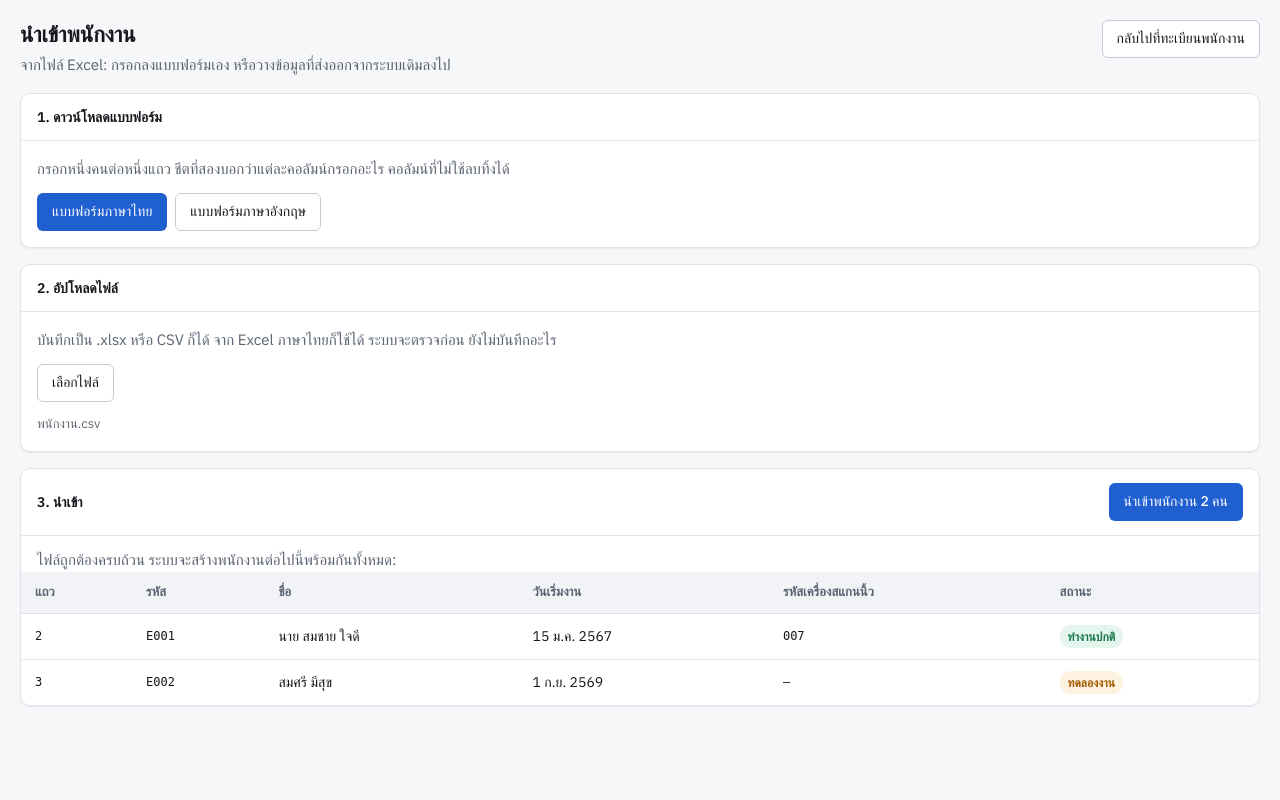
Test: Importing employees (CW-059) › checks the file first, then imports everyone in one step
Earlier steps of the test are not shown.
expect the text "นาย สมชาย ใจดี" is shown: met, box x1=264 y1=613 x2=519 y2=659
expect the text "ทดลองงาน" is shown: met, box x1=1060 y1=671 x2=1123 y2=694
Click the button "นำเข้าพนักงาน 2 คน" at x=1176, y=502, box x1=1108 y1=483 x2=1243 y2=521
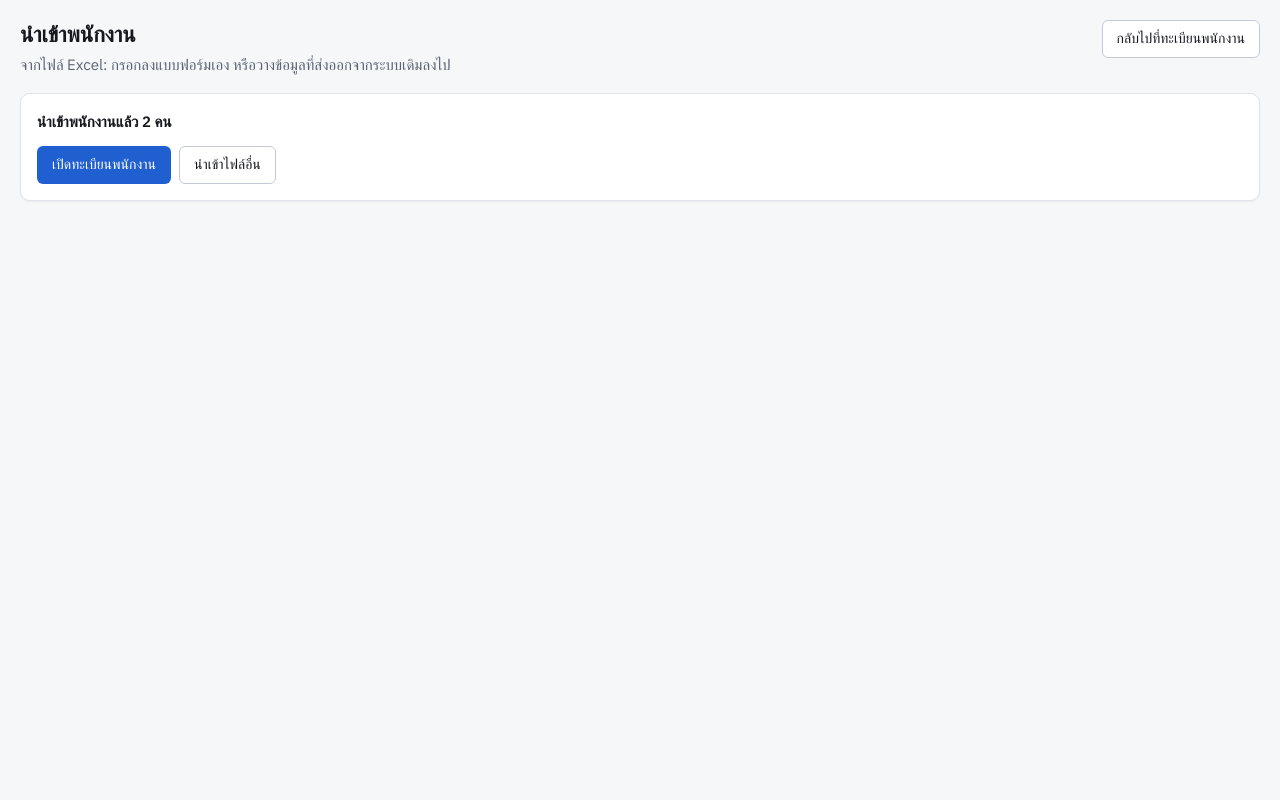
expect the text "นำเข้าพนักงานแล้ว 2 คน" is shown: met, box x1=37 y1=112 x2=172 y2=131
